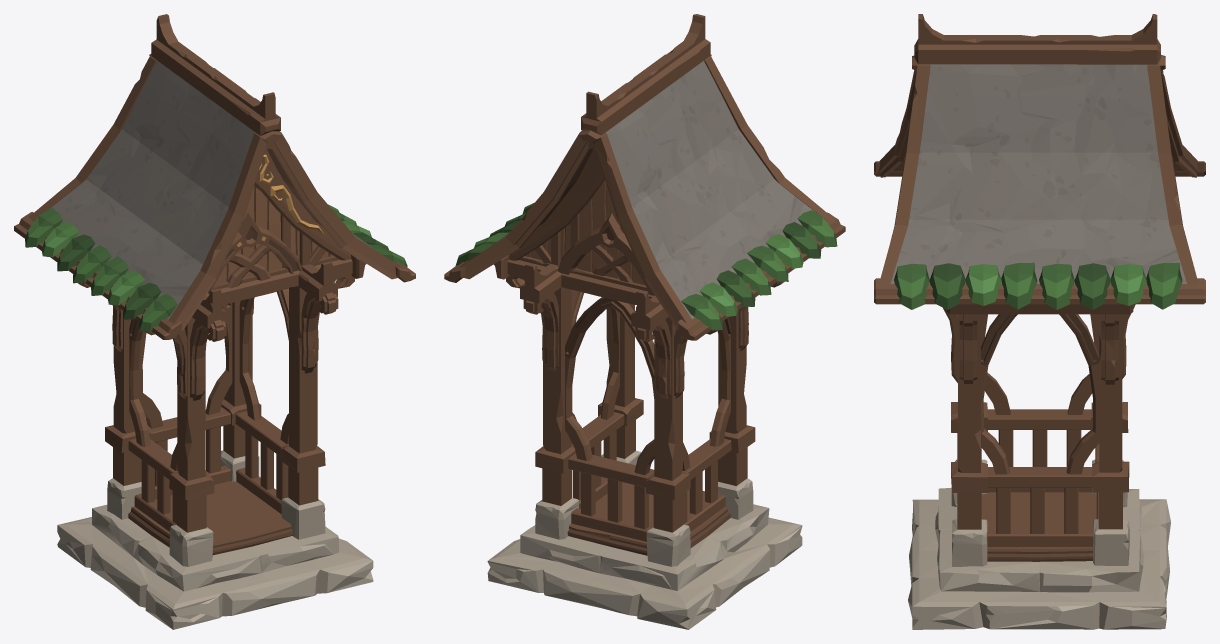
File: el_bld_supply.gltf
The picture shows the model from 3 angles, left to right: view 1: azimuth 30°, elevation 25°; view 2: azimuth 150°, elevation 25°; view 3: azimuth 270°, elevation 25°; orthographic projection. The views are drawn at different scales.
Visible parts, largest first — view 1: el_bld_supply; view 2: el_bld_supply; view 3: el_bld_supply.
Part boxes in pixels (x1=…): el_bld_supply: x1=14, y1=14, x2=415, y2=629; el_bld_supply: x1=444, y1=14, x2=845, y2=629; el_bld_supply: x1=874, y1=14, x2=1205, y2=629.
Size of the model in its own units: 2.84 by 5.17 by 2.77.
Materials: 2 (2 with a texture image).
